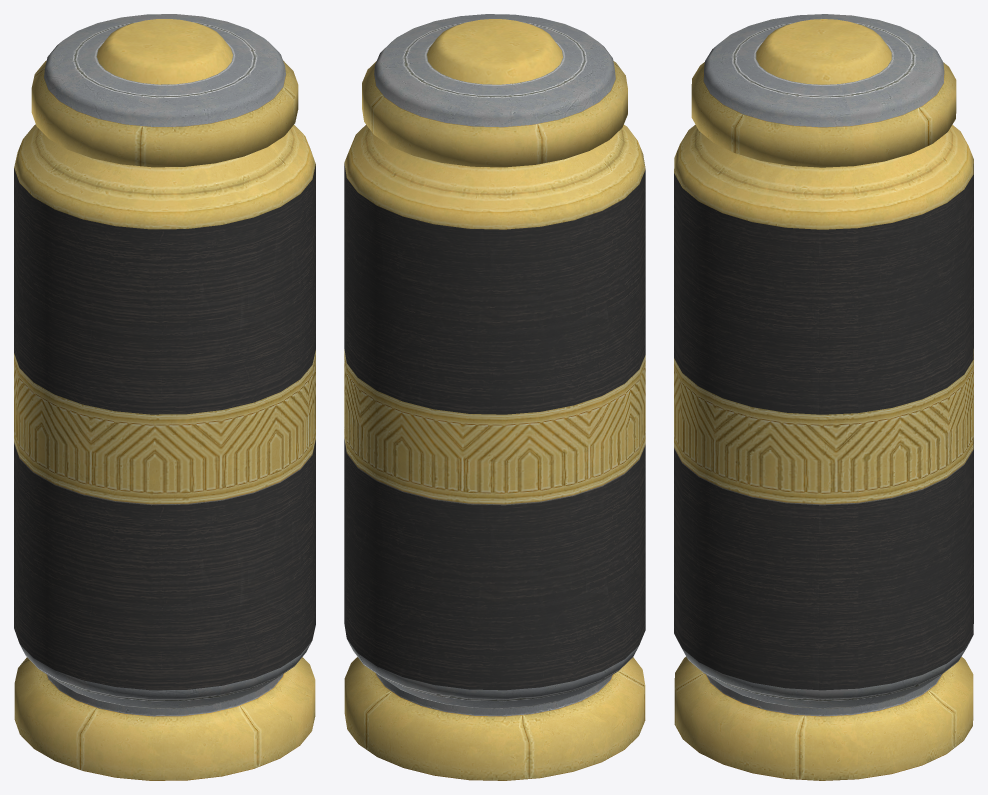
The model's file is Vessel_01.fbx.
The picture shows the model from 3 angles, left to right: view 1: azimuth 30°, elevation 25°; view 2: azimuth 150°, elevation 25°; view 3: azimuth 270°, elevation 25°; orthographic projection.
Parts seen in each view (by area): view 1: Vessel_01; view 2: Vessel_01; view 3: Vessel_01.
Boxes of the visible parts, left/top/right/bottom form: Vessel_01: left=14, top=14, right=315, bottom=780; Vessel_01: left=344, top=14, right=645, bottom=780; Vessel_01: left=674, top=14, right=973, bottom=780.
Bounding box in the file's own units: 44.84 × 111 × 44.58.
